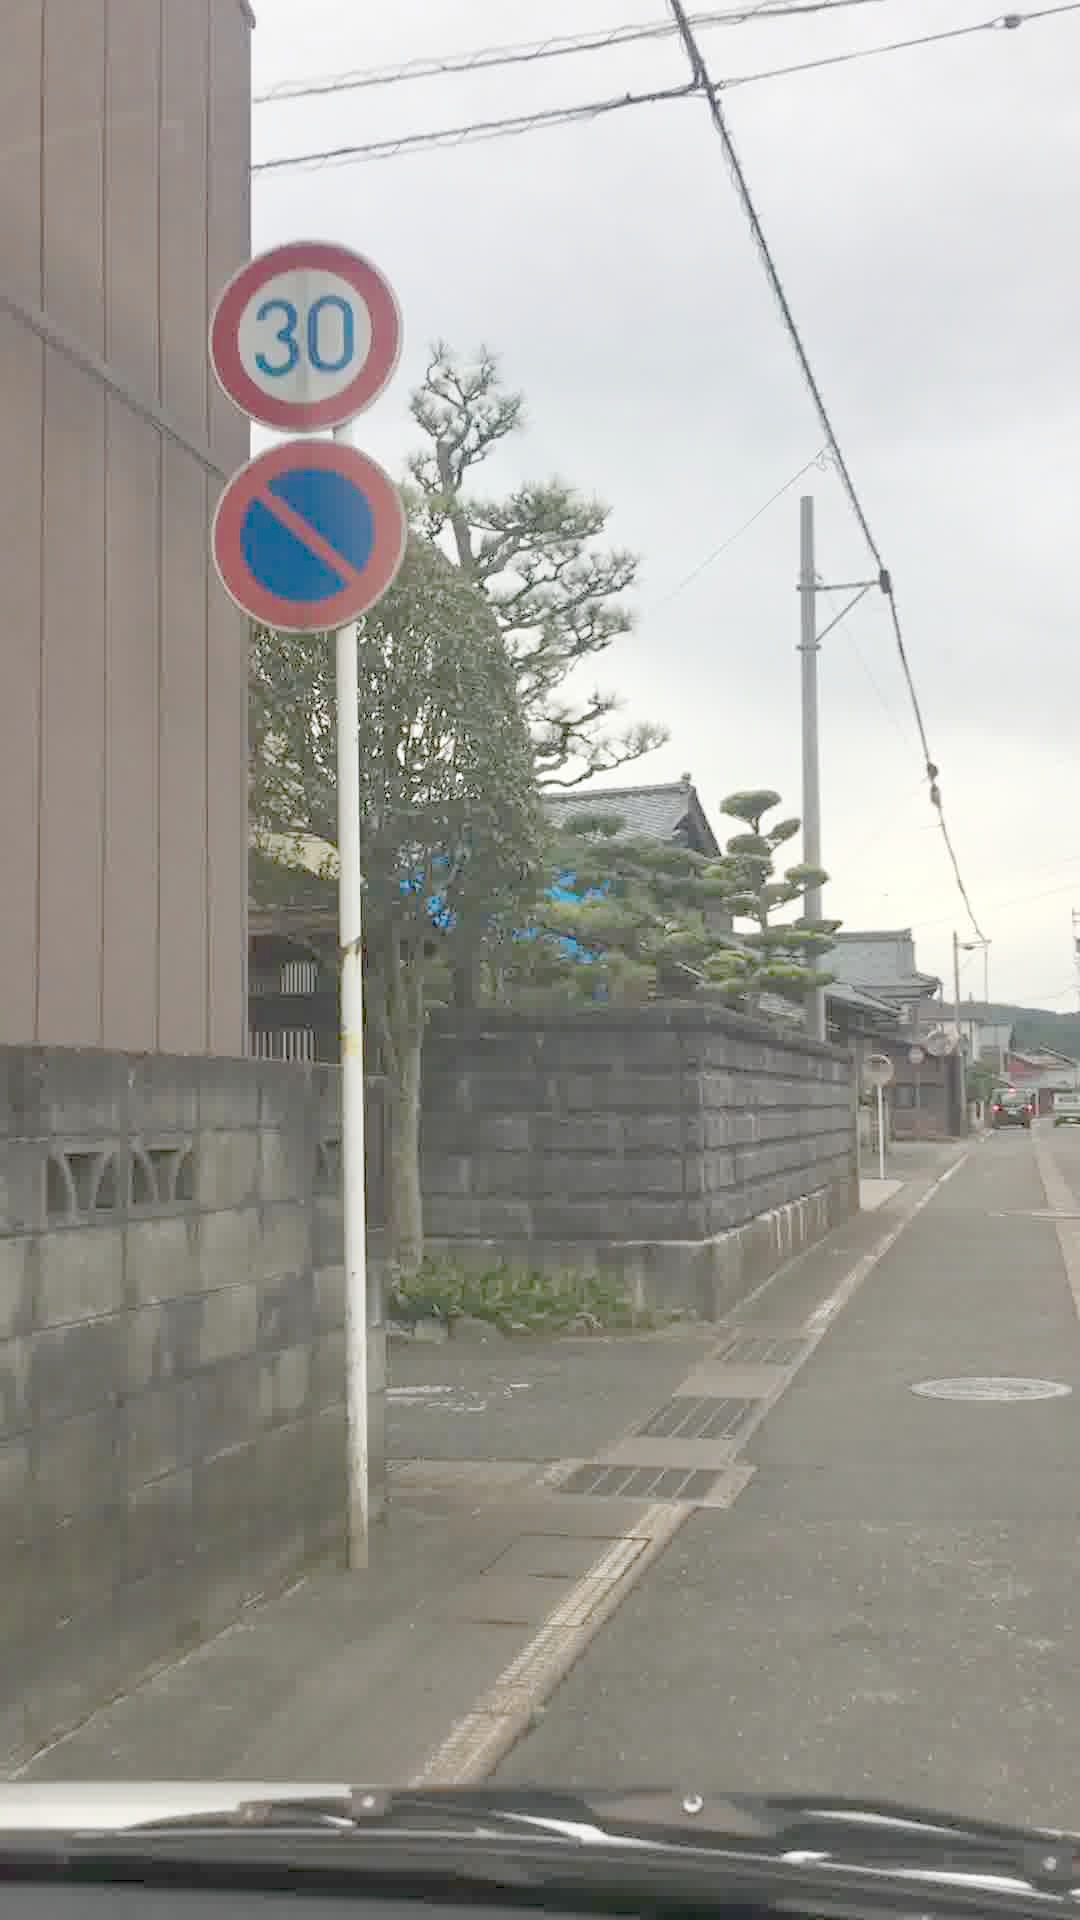Prohibition_sign: (208, 426, 430, 642)
Speed_sign: (208, 233, 418, 430)
